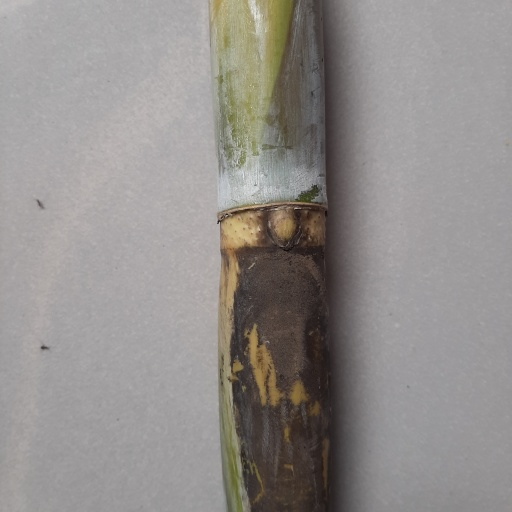Bud: (267, 209, 305, 252)
